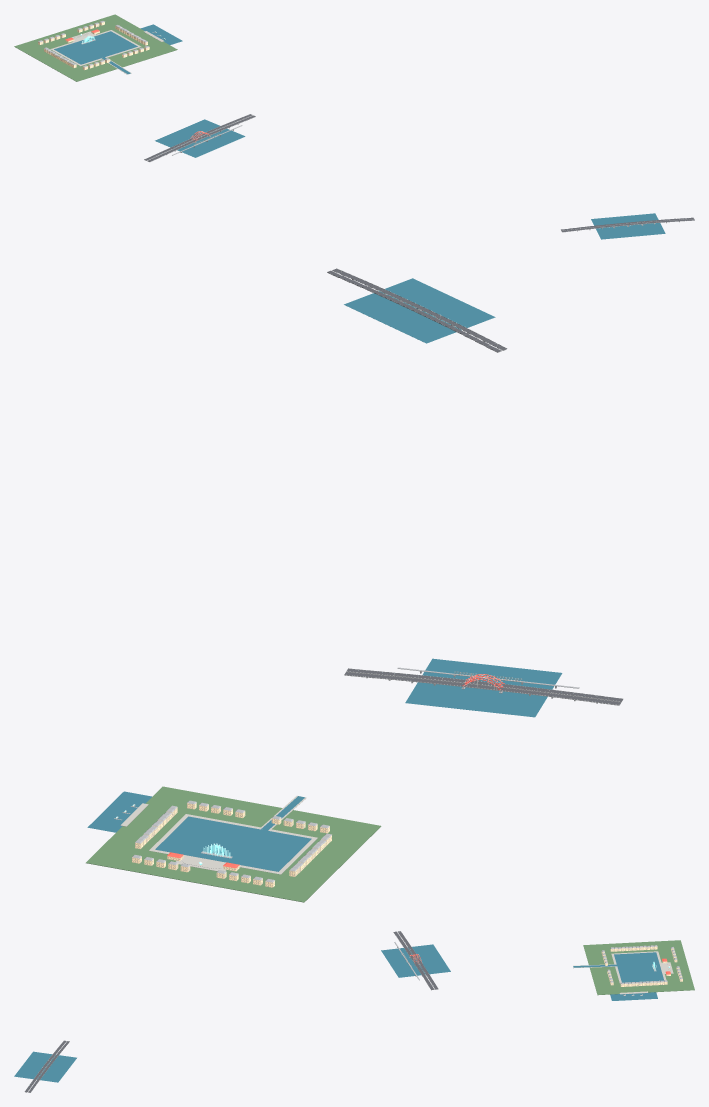
Rendered from vanphuc_binhloi_cluster.glb.
The picture shows the model from 3 angles, top to bottom: view 1: azimuth 30°, elevation 25°; view 2: azimuth 150°, elevation 25°; view 3: azimuth 270°, elevation 25°; orthographic projection. The views are drawn at different scales.
Visible parts, largest first — view 1: SAIGON_RIVER_HO_DAI_NHAT_WATER, VANPHUC_PENINSULA_GREEN_PARKS, BRIDGE_PIERS_GIRDERS_QUAYS, BRIDGE_ROADWAYS_BOULEVARDS, DIAMOND_PLAZA_RAIL_TRUSS, VANPHUC_SHOPHOUSES_CLUBHOUSE; view 2: SAIGON_RIVER_HO_DAI_NHAT_WATER, VANPHUC_PENINSULA_GREEN_PARKS, BRIDGE_PIERS_GIRDERS_QUAYS, BRIDGE_ROADWAYS_BOULEVARDS, DIAMOND_PLAZA_RAIL_TRUSS, VANPHUC_SHOPHOUSES_CLUBHOUSE; view 3: SAIGON_RIVER_HO_DAI_NHAT_WATER, VANPHUC_PENINSULA_GREEN_PARKS, BRIDGE_ROADWAYS_BOULEVARDS, BRIDGE_PIERS_GIRDERS_QUAYS, DIAMOND_PLAZA_RAIL_TRUSS, VANPHUC_SHOPHOUSES_CLUBHOUSE.
Part boxes in pixels (x1=…): SAIGON_RIVER_HO_DAI_NHAT_WATER: x1=54, y1=24, x2=665, y2=239; VANPHUC_PENINSULA_GREEN_PARKS: x1=14, y1=14, x2=177, y2=81; BRIDGE_PIERS_GIRDERS_QUAYS: x1=38, y1=21, x2=694, y2=232; BRIDGE_ROADWAYS_BOULEVARDS: x1=144, y1=114, x2=694, y2=232; DIAMOND_PLAZA_RAIL_TRUSS: x1=50, y1=30, x2=644, y2=228; VANPHUC_SHOPHOUSES_CLUBHOUSE: x1=38, y1=22, x2=149, y2=70; SAIGON_RIVER_HO_DAI_NHAT_WATER: x1=87, y1=278, x2=562, y2=871; VANPHUC_PENINSULA_GREEN_PARKS: x1=86, y1=786, x2=381, y2=902; BRIDGE_PIERS_GIRDERS_QUAYS: x1=114, y1=268, x2=622, y2=882; BRIDGE_ROADWAYS_BOULEVARDS: x1=327, y1=268, x2=622, y2=704; DIAMOND_PLAZA_RAIL_TRUSS: x1=115, y1=270, x2=573, y2=874; VANPHUC_SHOPHOUSES_CLUBHOUSE: x1=132, y1=803, x2=331, y2=887; SAIGON_RIVER_HO_DAI_NHAT_WATER: x1=14, y1=944, x2=664, y2=1082; VANPHUC_PENINSULA_GREEN_PARKS: x1=583, y1=940, x2=694, y2=995; BRIDGE_ROADWAYS_BOULEVARDS: x1=25, y1=931, x2=437, y2=1092; BRIDGE_PIERS_GIRDERS_QUAYS: x1=25, y1=932, x2=682, y2=1092; DIAMOND_PLAZA_RAIL_TRUSS: x1=400, y1=935, x2=673, y2=995; VANPHUC_SHOPHOUSES_CLUBHOUSE: x1=601, y1=946, x2=682, y2=986.
Size of the model in its own units: 2960 by 50.3 by 5269.
